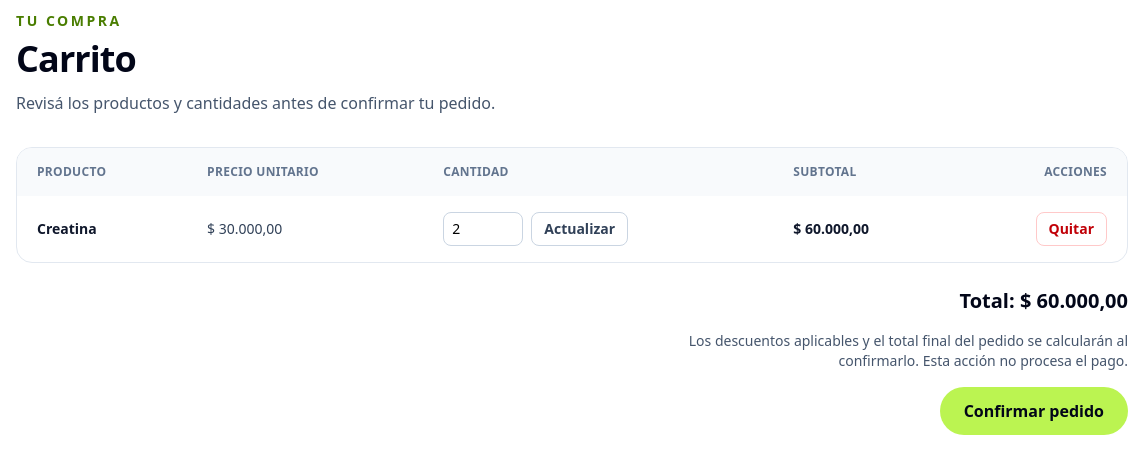
carrito de compras › confirma el carrito y presenta el pedido, sus descuentos y la aclaración de pago
Expected: the text "Creatina" is shown, top-left (17, 196), bottom-right (187, 262)
Click the button "Confirmar pedido": click(1034, 411) top-left (940, 387), bottom-right (1128, 435)
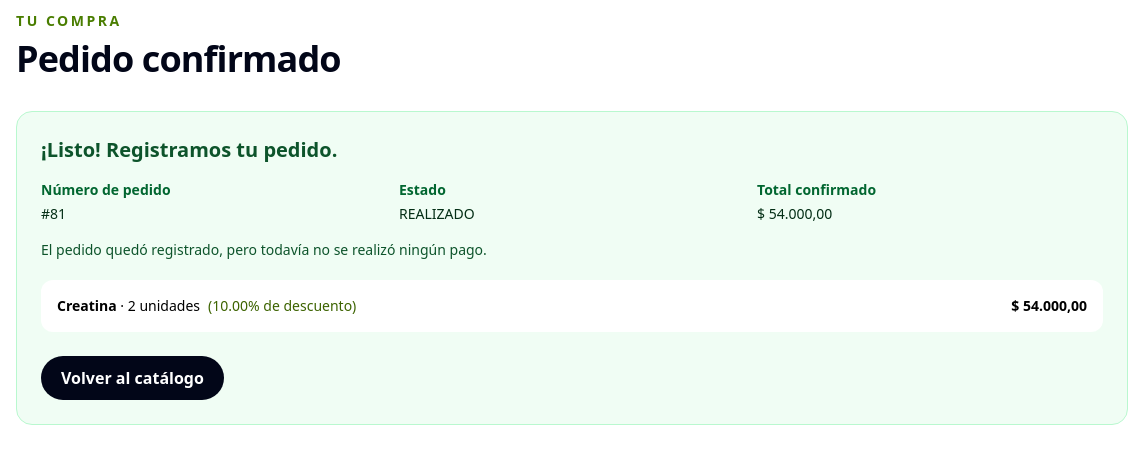
Expected: the heading "Pedido confirmado" is shown, top-left (16, 34), bottom-right (341, 83)
Expected: the text "#81" is shown, top-left (41, 204), bottom-right (66, 223)
Expected: the text "$ 54.000,00" is shown 2 times, top-left (757, 204), bottom-right (832, 223); top-left (1011, 296), bottom-right (1087, 316)
